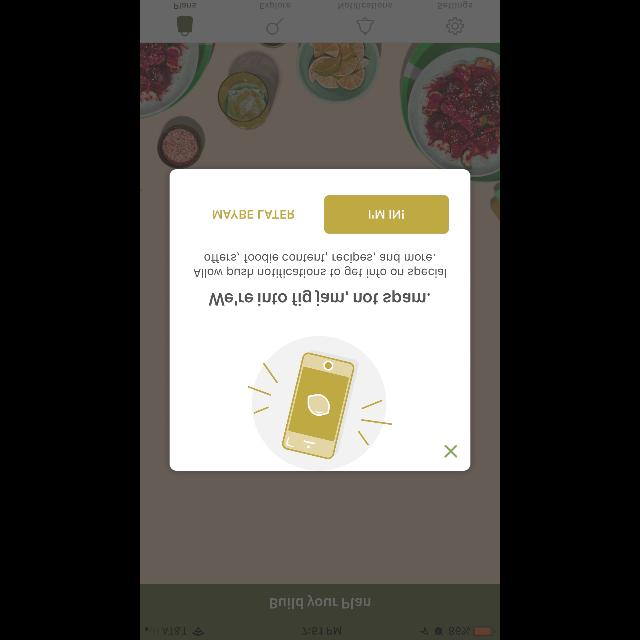icon: (444, 444, 458, 458)
image: (248, 336, 392, 470)
panel: (170, 170, 470, 470)
text: (194, 252, 446, 278), (210, 290, 430, 306), (213, 210, 294, 218)
textbutton: (325, 195, 449, 233)
uppertaskbar: (140, 626, 500, 640)
